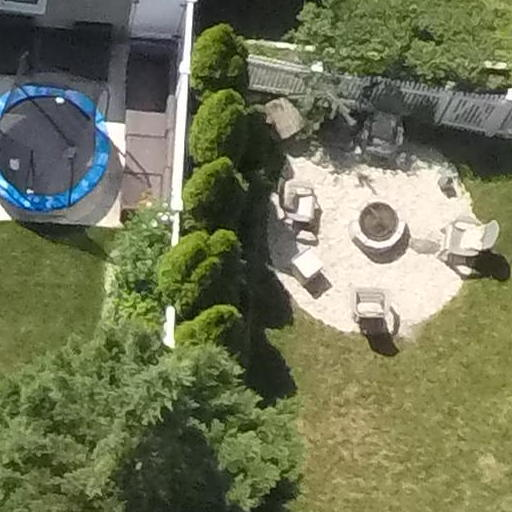fence: (156, 5, 203, 398)
